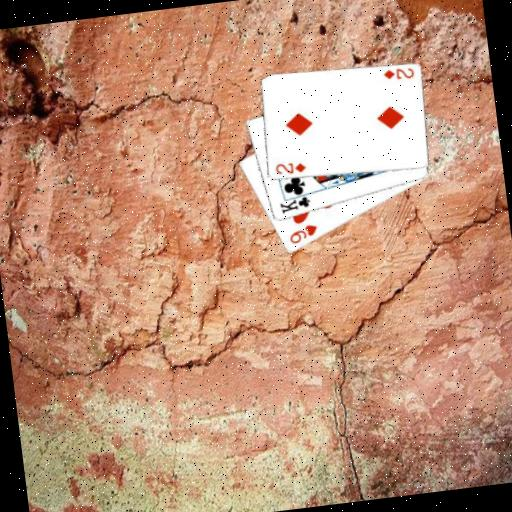2D: (380, 63, 416, 83), (272, 159, 308, 178)
9H: (284, 221, 320, 246)
KC: (276, 189, 315, 216)
